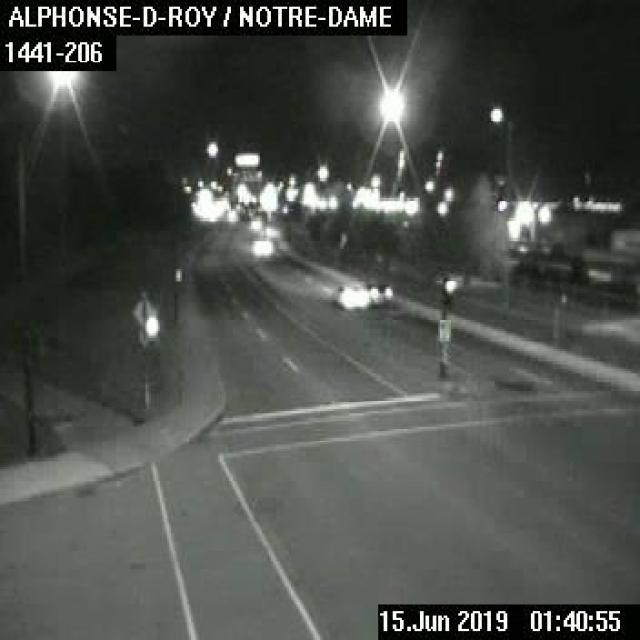vehicle: (333, 278, 365, 306), (365, 278, 394, 308)
